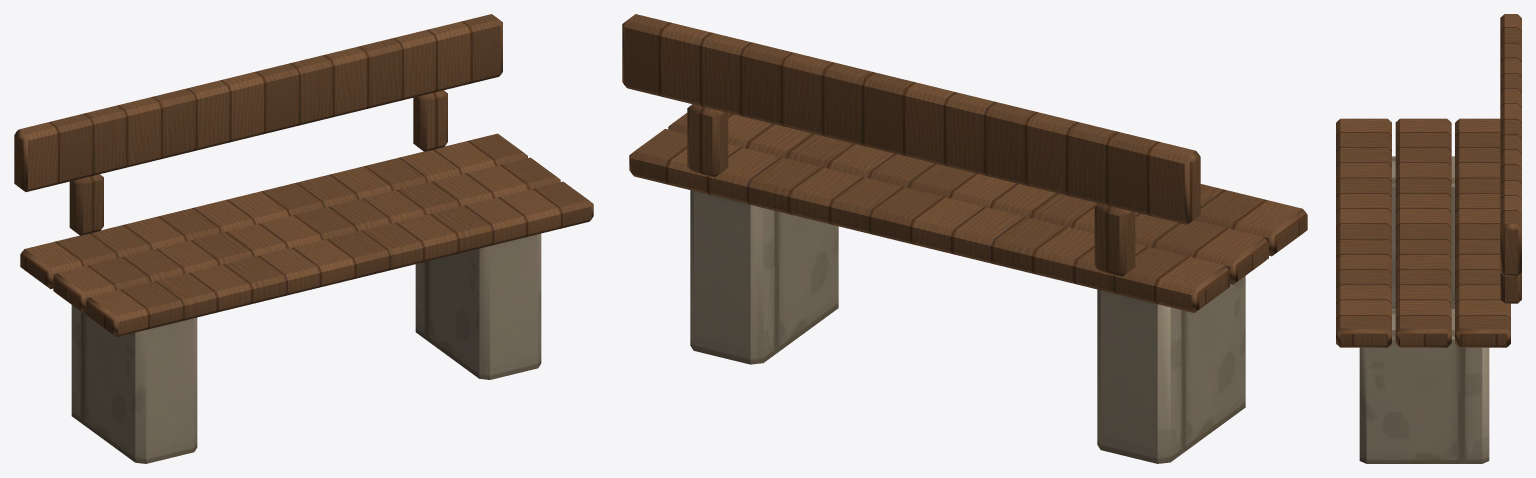
Rendered from bench.glb.
The picture shows the model from 3 angles, left to right: view 1: azimuth 30°, elevation 25°; view 2: azimuth 150°, elevation 25°; view 3: azimuth 270°, elevation 25°; orthographic projection. The views are drawn at different scales.
Parts seen in each view (by area): view 1: prop.bench; view 2: prop.bench; view 3: prop.bench.
Part boxes in pixels (left/top/right/bottom): prop.bench: left=14, top=14, right=593, bottom=463; prop.bench: left=622, top=14, right=1307, bottom=463; prop.bench: left=1336, top=14, right=1521, bottom=463.
Bounding box in the file's own units: 1.4 × 0.78 × 0.515.
2 materials, 2 textured.
